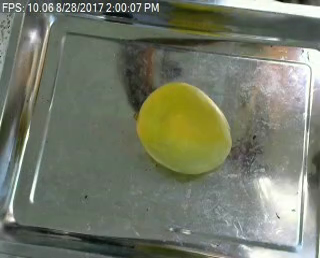Mango: (131, 76, 238, 177)
